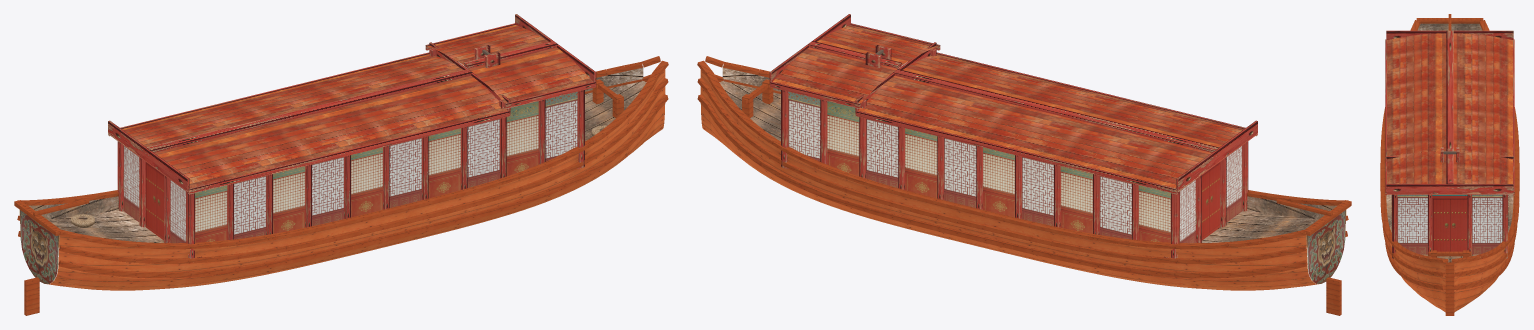
File: qm_bigboat.glb
3 renders of one model, left to right at view 1: azimuth 30°, elevation 25°; view 2: azimuth 150°, elevation 25°; view 3: azimuth 270°, elevation 25°, orthographic. The views are drawn at different scales.
Parts seen in each view (by area): view 1: roof, wale, lac, hull, bay_b, bay_a, deck, tiger, door; view 2: roof, wale, lac, hull, bay_b, bay_a, deck, tiger, door; view 3: roof, lac, wale, bay_b, hull, door, deck.
Boxes of the visible parts, <box> form: roof: <box>122,25,593,188</box>; wale: <box>14,56,668,315</box>; lac: <box>108,14,596,258</box>; hull: <box>47,69,665,290</box>; bay_b: <box>123,91,577,243</box>; bay_a: <box>195,101,538,245</box>; deck: <box>28,66,645,247</box>; tiger: <box>19,210,59,283</box>; door: <box>145,162,163,240</box>; roof: <box>772,25,1243,188</box>; wale: <box>697,56,1351,315</box>; lac: <box>769,14,1257,258</box>; hull: <box>700,69,1318,290</box>; bay_b: <box>788,91,1242,243</box>; bay_a: <box>827,101,1170,245</box>; deck: <box>720,66,1337,247</box>; tiger: <box>1306,210,1346,283</box>; door: <box>1202,162,1220,240</box>; roof: <box>1387,33,1512,183</box>; lac: <box>1385,30,1514,258</box>; wale: <box>1380,14,1519,315</box>; bay_b: <box>1397,194,1502,254</box>; hull: <box>1389,242,1510,312</box>; door: <box>1432,194,1467,251</box>; deck: <box>1386,23,1513,262</box>.
Size of the model in its own units: 16.42 by 3.72 by 3.86.
11 materials, 10 textured.
